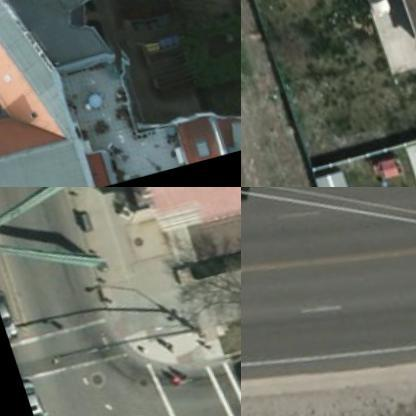car: (15, 380, 45, 415), (347, 0, 390, 21), (222, 346, 240, 387), (0, 282, 12, 339)
